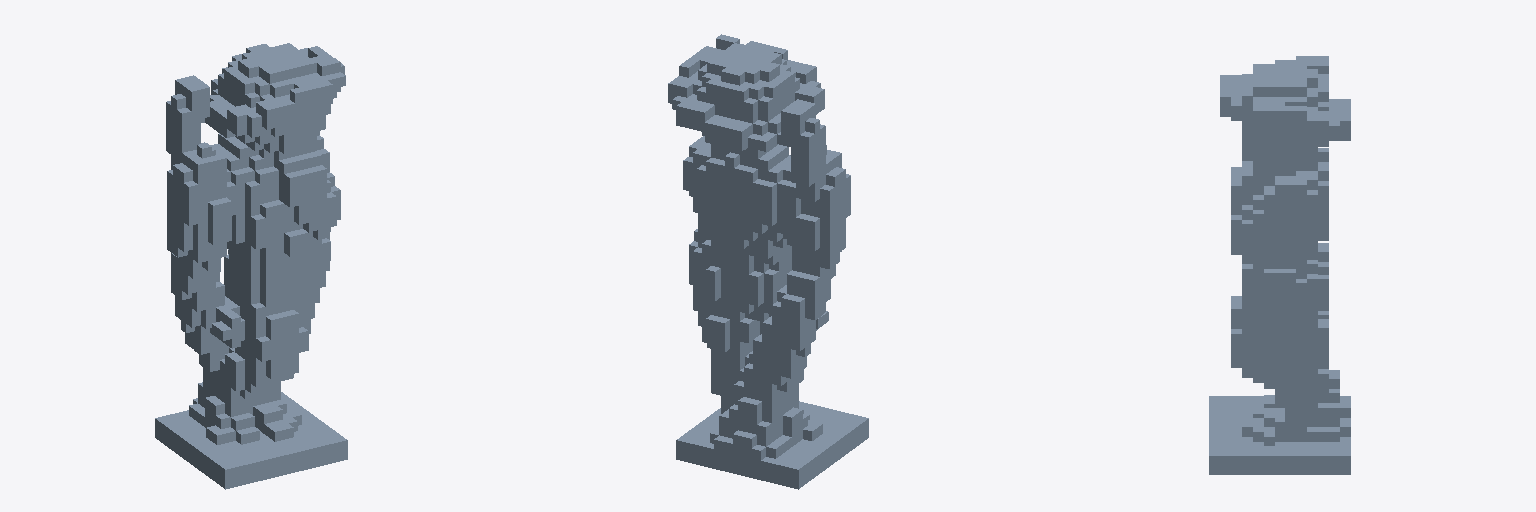
The picture shows the model from 3 angles: view 1: azimuth 30°, elevation 25°; view 2: azimuth 150°, elevation 25°; view 3: azimuth 270°, elevation 25°; orthographic projection.
Bounding box in the file's own units: 16 × 39 × 13.
1 materials, 1 textured.